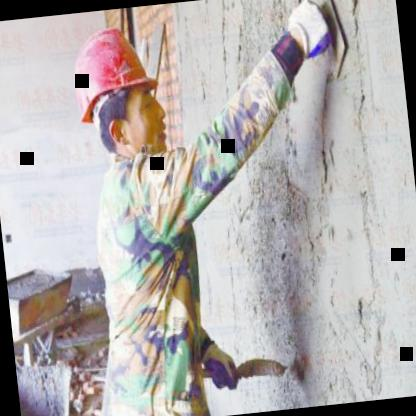helmet: (54, 9, 176, 177)
